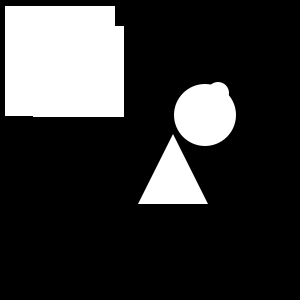circle: (5, 6, 115, 116), (33, 26, 124, 117)
rectangle: (174, 84, 236, 146), (207, 82, 229, 104)
triangle: (138, 134, 208, 204)
